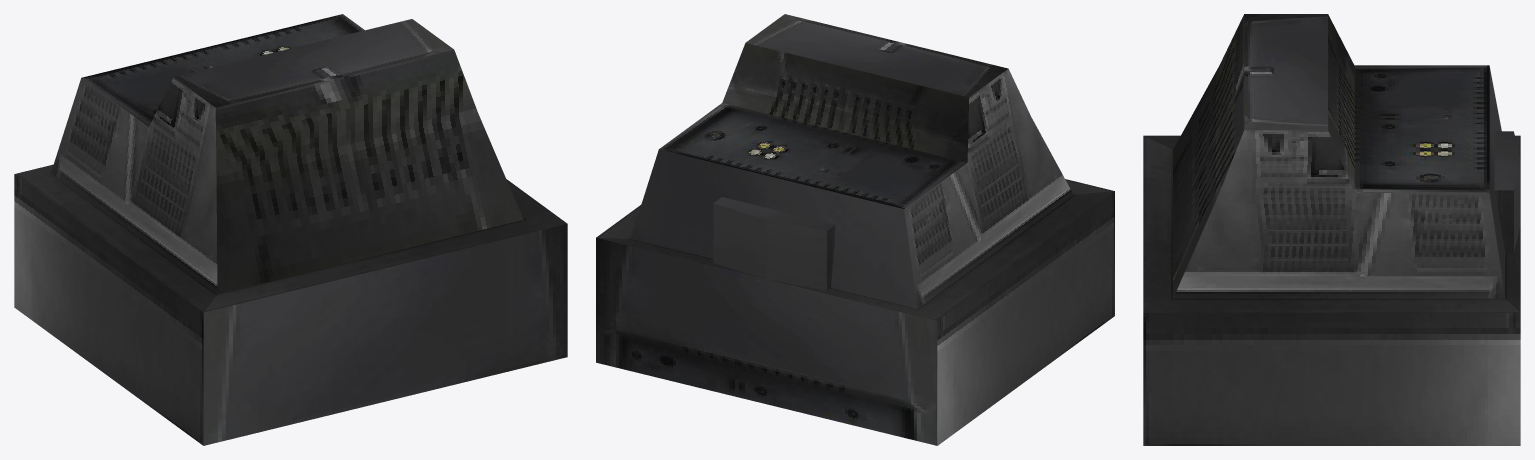
The model's file is psx-crt-tv-14c403.glb.
The picture shows the model from 3 angles, left to right: view 1: azimuth 30°, elevation 25°; view 2: azimuth 150°, elevation 25°; view 3: azimuth 270°, elevation 25°; orthographic projection. The views are drawn at different scales.
Parts seen in each view (by area): view 1: PropMesh; view 2: PropMesh; view 3: PropMesh.
Boxes of the visible parts, left/top/right/bottom form: PropMesh: left=14, top=14, right=567, bottom=445; PropMesh: left=596, top=14, right=1114, bottom=445; PropMesh: left=1143, top=14, right=1520, bottom=445.
Size of the model in its own units: 0.6 by 0.45 by 0.54.
1 material, 1 textured.
